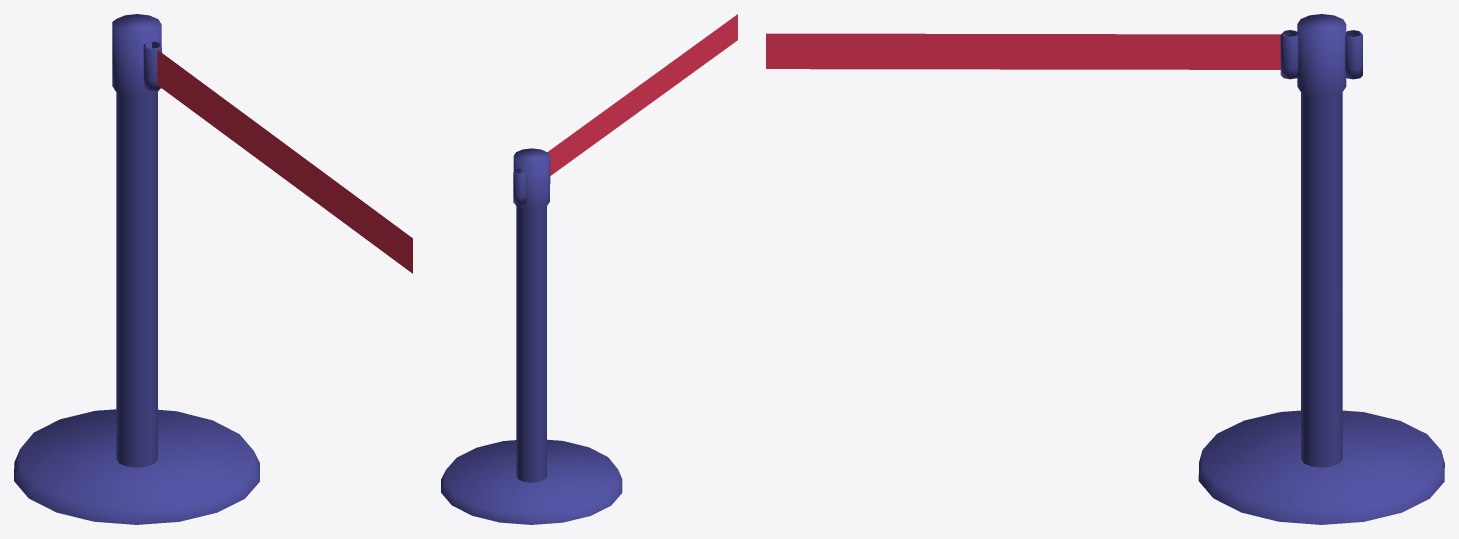
File: SecurityCordon (2).fbx
The picture shows the model from 3 angles, left to right: view 1: azimuth 30°, elevation 25°; view 2: azimuth 150°, elevation 25°; view 3: azimuth 270°, elevation 25°; orthographic projection. The views are drawn at different scales.
Parts seen in each view (by area): view 1: Stick, Stripe; view 2: Stick, Stripe; view 3: Stick, Stripe.
Boxes of the visible parts, bbox=[...] form: Stick: bbox=[14, 14, 259, 524]; Stripe: bbox=[155, 48, 412, 273]; Stick: bbox=[441, 148, 622, 524]; Stripe: bbox=[547, 14, 737, 175]; Stick: bbox=[1198, 14, 1444, 524]; Stripe: bbox=[766, 33, 1286, 69].
Bounding box in the file's own units: 46.5 × 92 × 126.
Materials: 1 (1 with a texture image).
